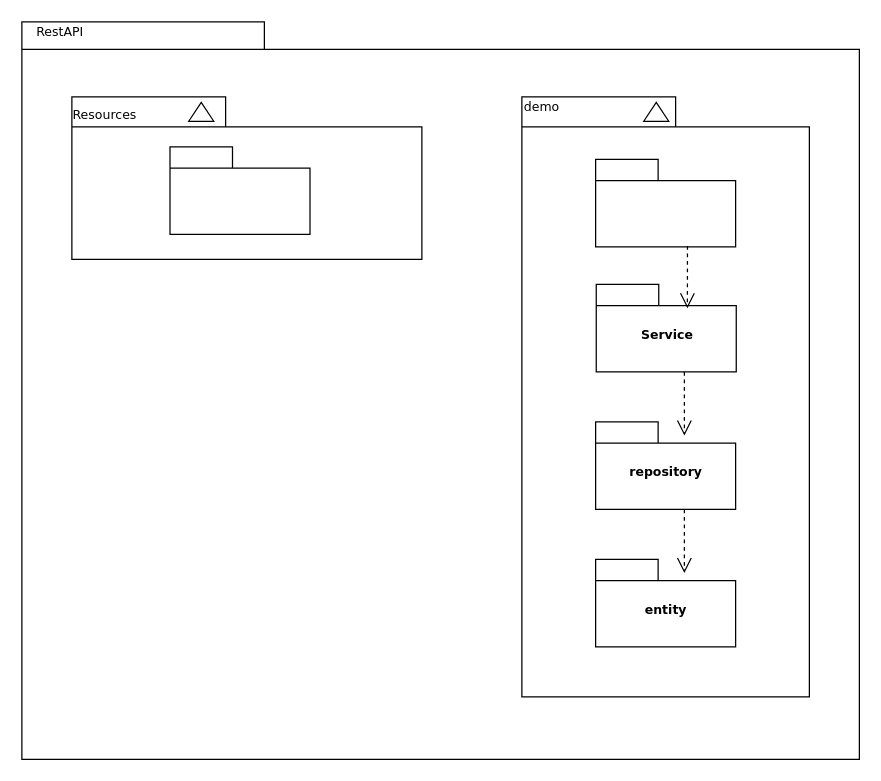
The diagram is 881 pixels wide and 781 high, and some of its shapes have lost their labels. Each missing label, with the box of its shape:
controller: (594, 158, 736, 247)
db/migration: (169, 146, 310, 234)
